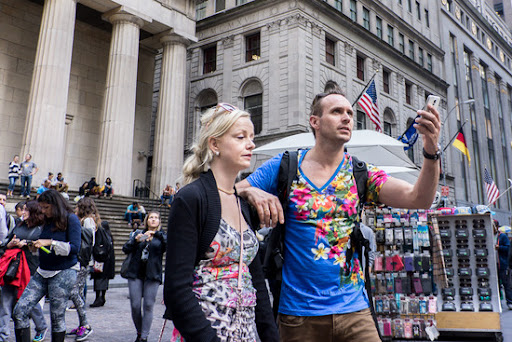without_mask: (226, 121, 256, 171), (323, 99, 353, 142), (39, 201, 53, 220), (148, 213, 160, 227)
